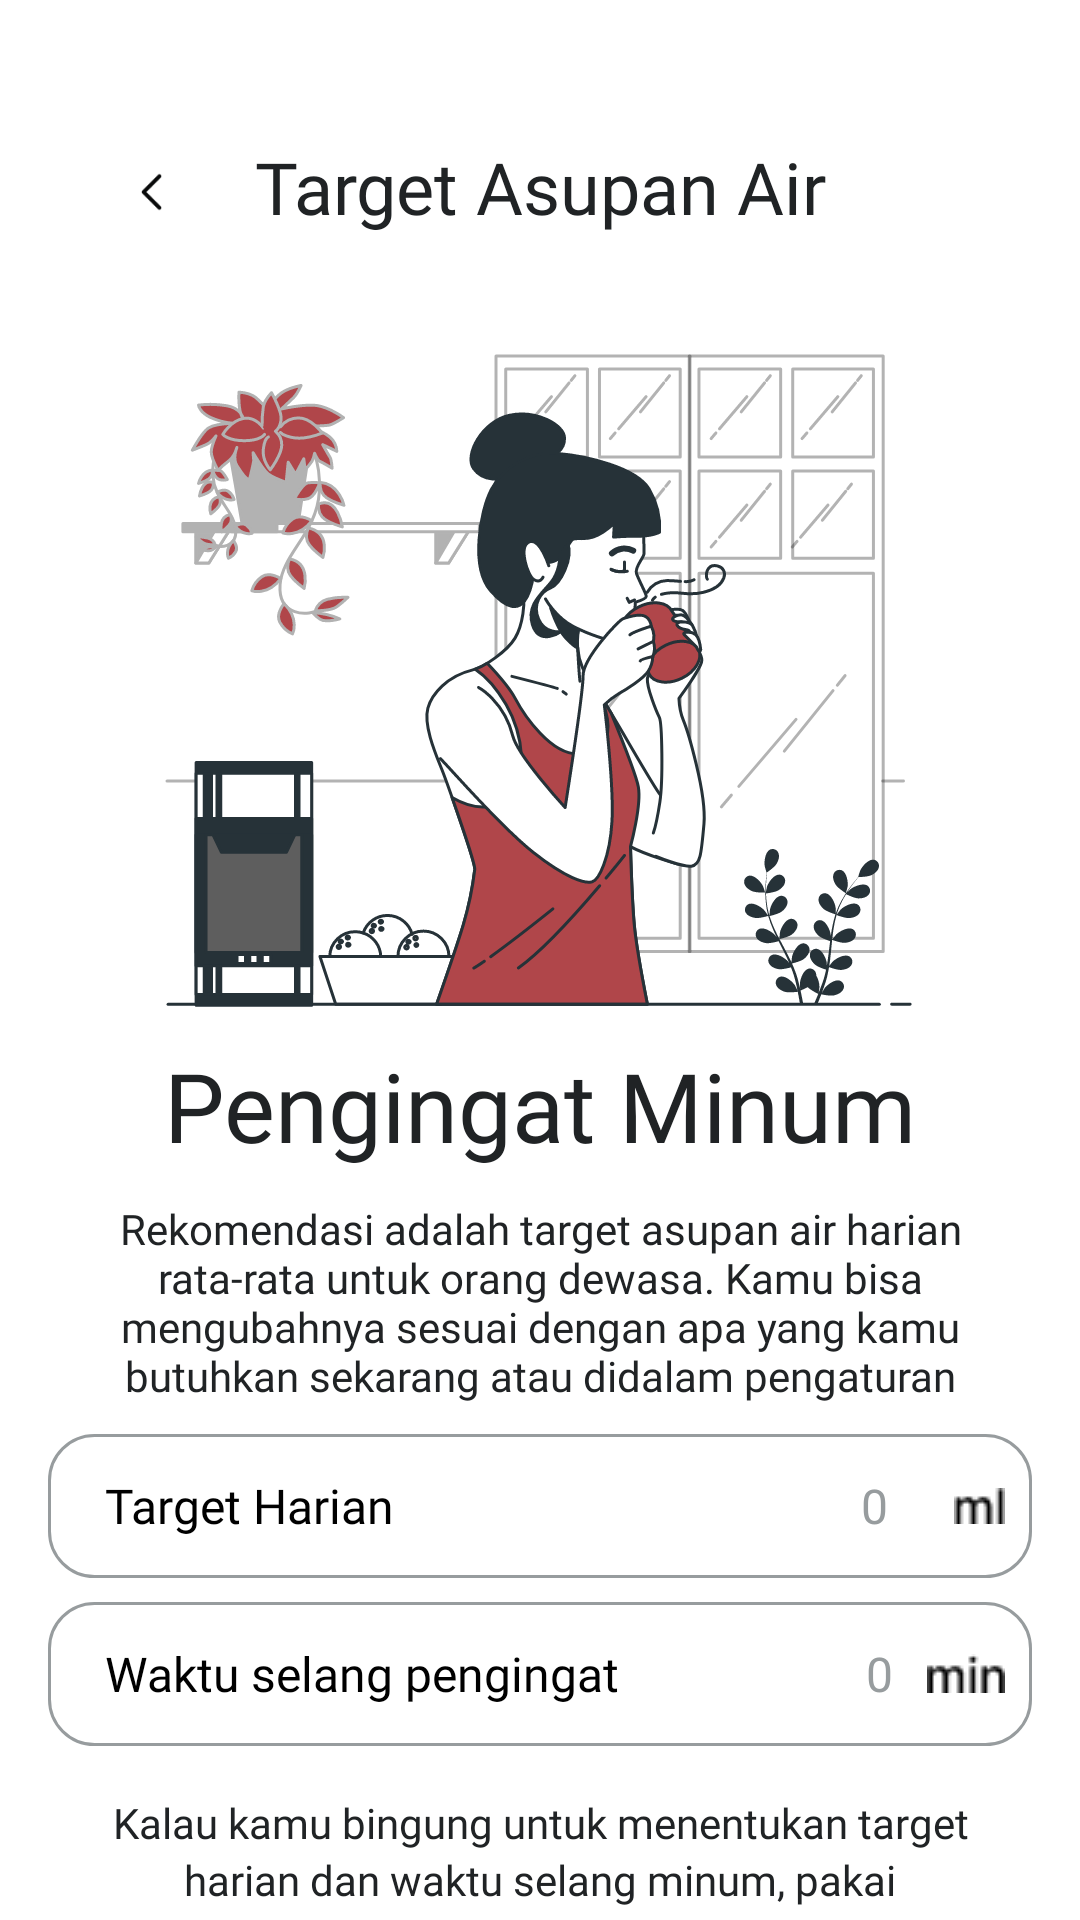

Named icons in this screenshot (1080 × 1920) and their centers, point (x, y):
back: point (151, 192)
